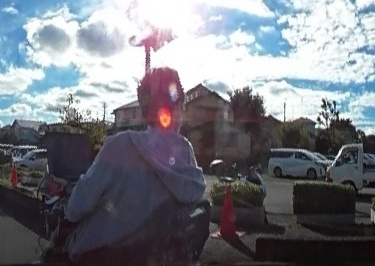person: (58, 61, 206, 242)
